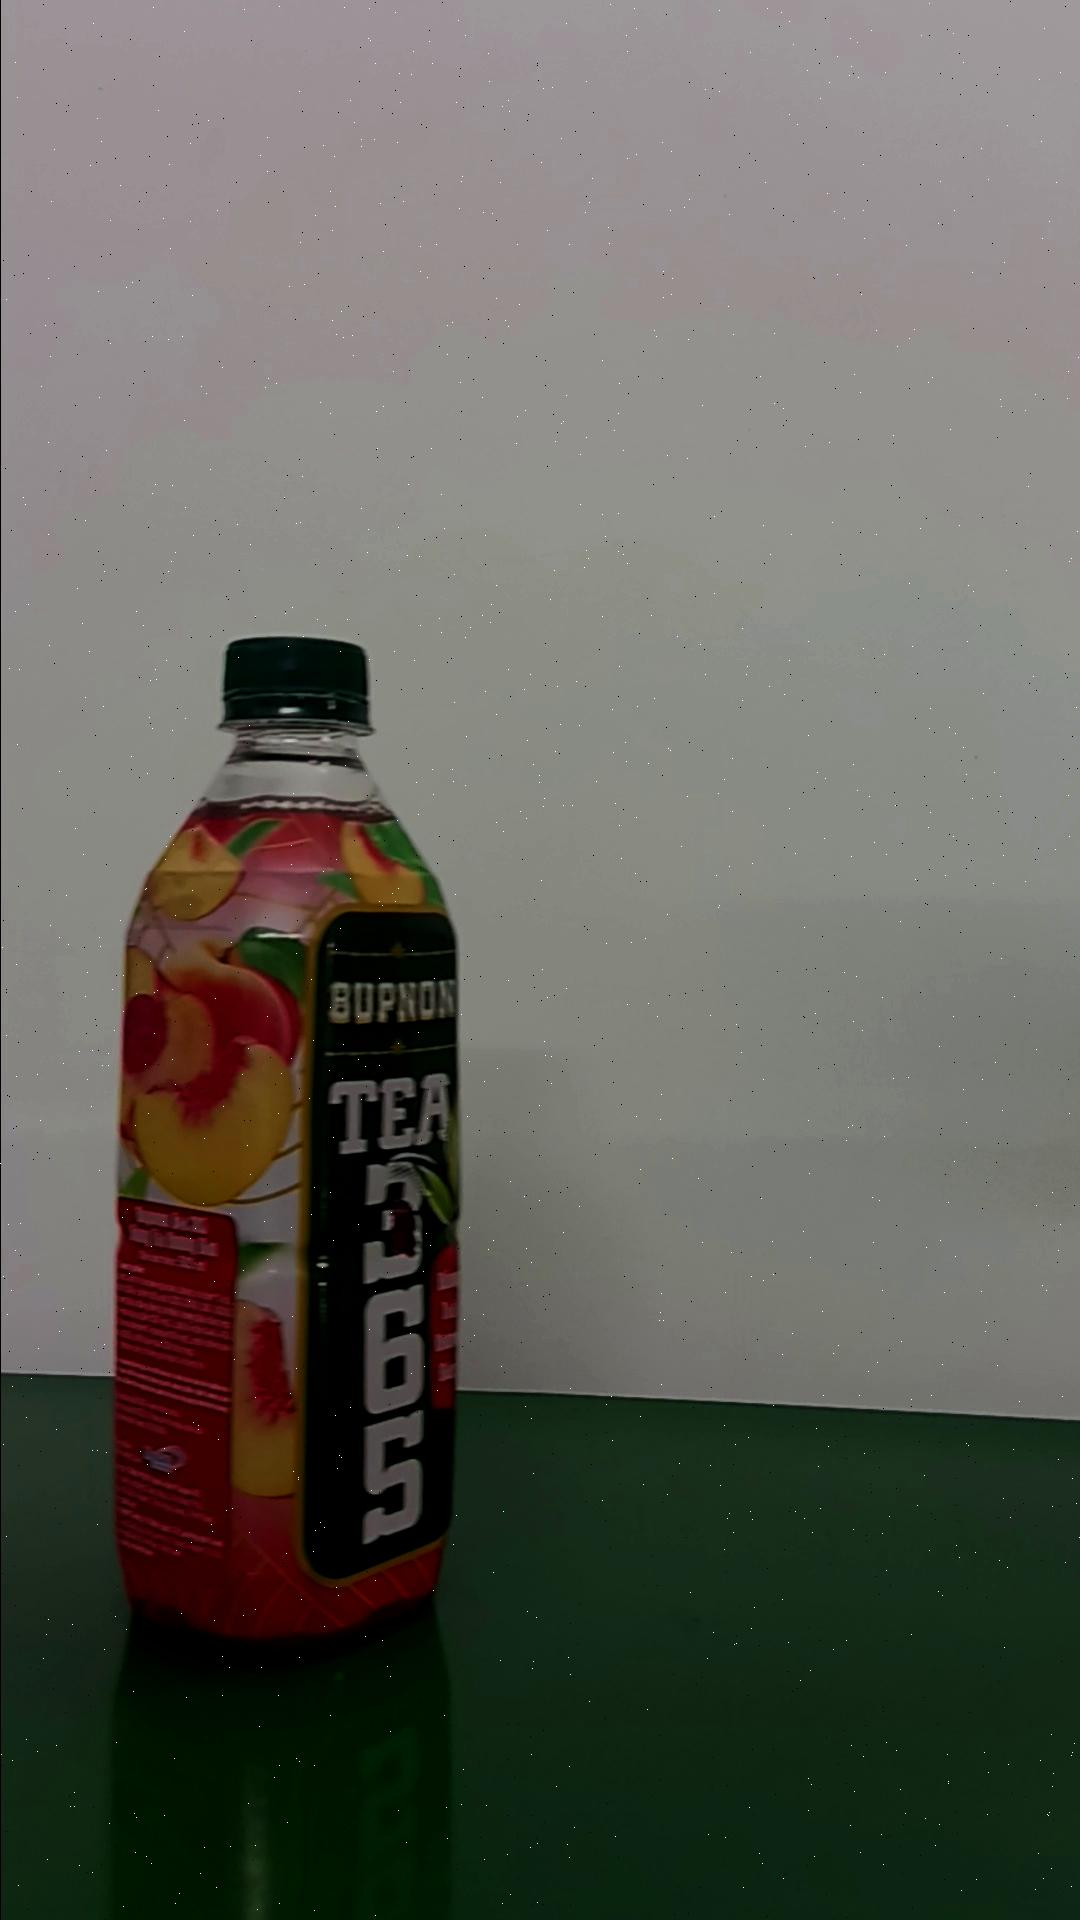loi rach va lap chai: (109, 632, 465, 1658)
